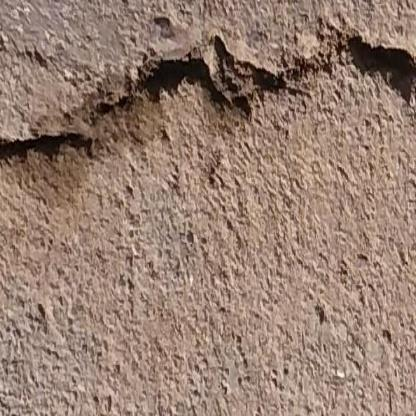Cracks: (91, 10, 416, 123), (0, 129, 100, 170)
